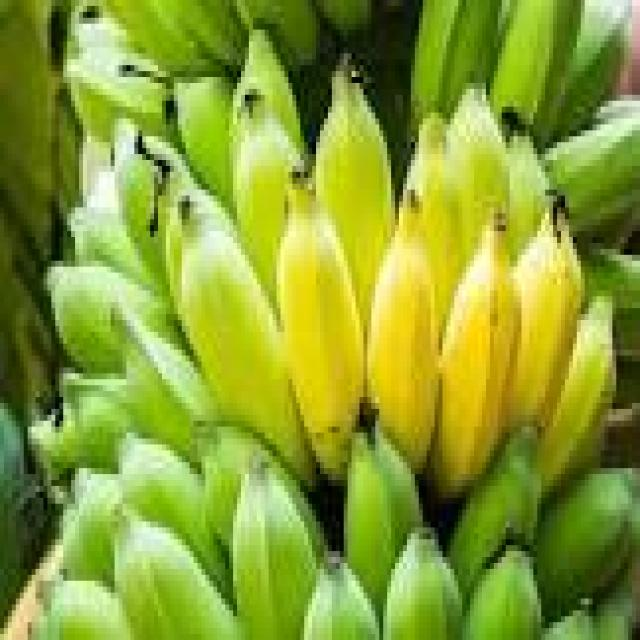banana: (178, 208, 316, 479), (277, 172, 363, 479), (431, 220, 521, 497), (317, 60, 395, 331), (368, 190, 438, 474), (506, 196, 584, 432), (119, 439, 229, 592), (115, 510, 244, 639), (230, 457, 319, 639), (447, 427, 541, 598), (534, 469, 636, 622), (538, 297, 616, 491), (202, 427, 323, 551), (115, 309, 217, 456), (344, 427, 422, 610), (234, 95, 300, 302), (48, 267, 173, 373), (403, 113, 462, 337), (115, 119, 193, 284), (546, 113, 639, 237), (447, 89, 509, 266), (28, 374, 130, 479), (554, 0, 632, 136), (68, 48, 169, 142), (162, 190, 237, 314), (490, 0, 564, 124), (230, 30, 304, 154), (384, 528, 462, 639), (103, 0, 213, 77), (174, 78, 233, 207), (463, 546, 541, 639), (60, 469, 122, 586), (411, 0, 466, 130), (534, 0, 584, 142), (68, 208, 154, 290), (439, 0, 501, 112), (301, 552, 379, 639), (0, 403, 31, 616), (151, 0, 244, 71), (60, 374, 130, 468), (506, 131, 549, 260), (234, 0, 319, 65), (40, 581, 134, 639), (581, 243, 639, 314), (28, 403, 79, 479), (202, 0, 248, 71), (68, 6, 130, 53), (593, 587, 636, 639), (317, 0, 375, 35), (542, 611, 596, 639), (593, 95, 639, 124)
